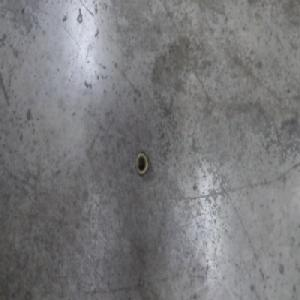Nut: (135, 152, 149, 179)
